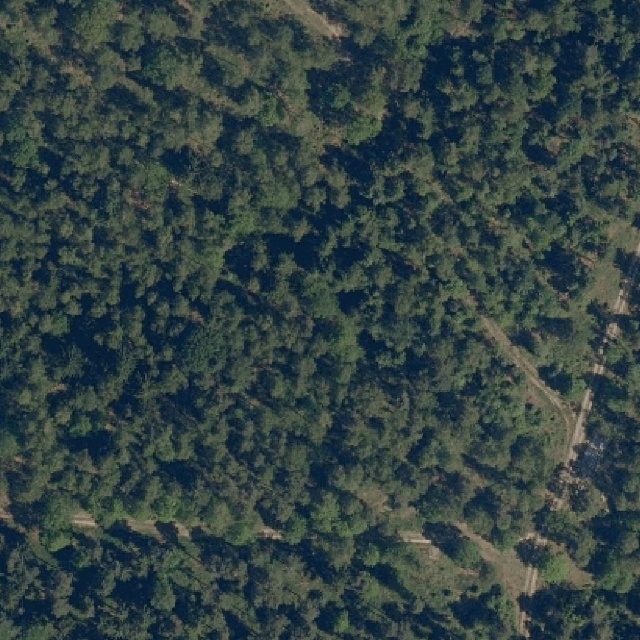vegetation: (0, 0, 640, 542), (0, 521, 531, 640), (529, 256, 640, 640)
